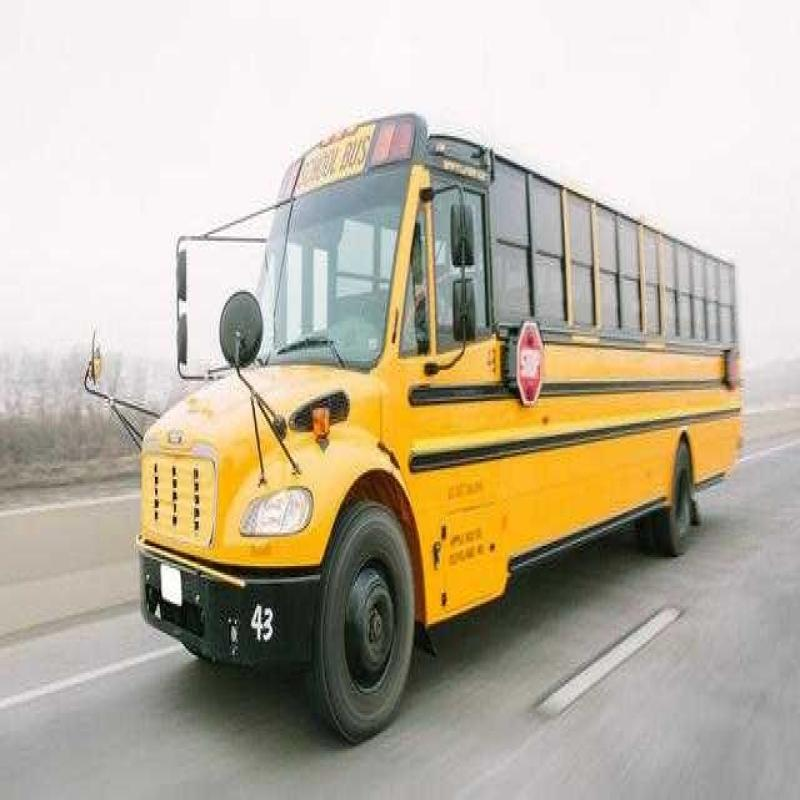bus: (102, 109, 778, 690)
